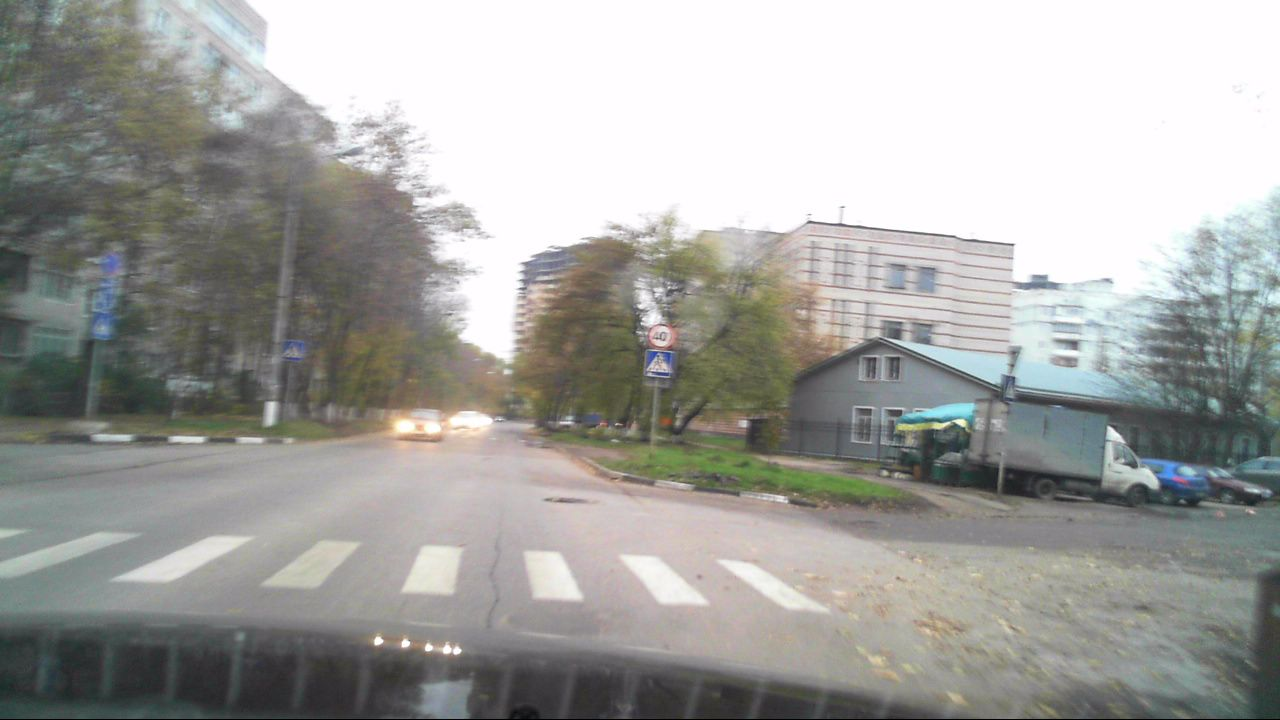speed_warning_40: (648, 322, 673, 348)
